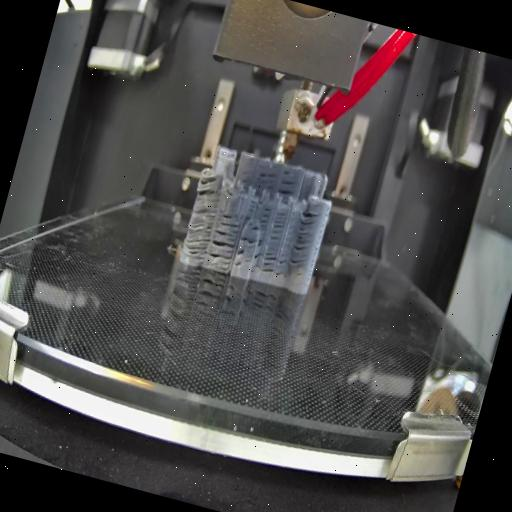cracks: (180, 204, 216, 262), (287, 207, 318, 271), (206, 228, 237, 268), (196, 173, 222, 200), (278, 168, 300, 196), (256, 168, 280, 192), (217, 210, 242, 232), (258, 250, 278, 276), (270, 210, 286, 242), (273, 254, 288, 278), (243, 198, 257, 222), (240, 234, 262, 248), (259, 205, 272, 228), (233, 247, 245, 268), (238, 168, 252, 186), (250, 252, 260, 272), (250, 222, 260, 232)
